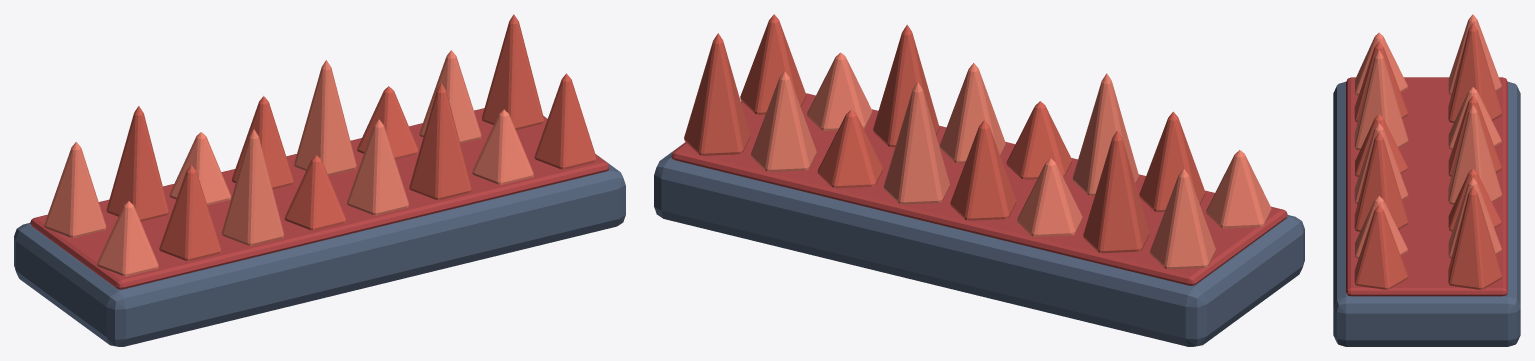
File: spikes.glb
3 renders of one model, left to right at view 1: azimuth 30°, elevation 25°; view 2: azimuth 150°, elevation 25°; view 3: azimuth 270°, elevation 25°, orthographic. The views are drawn at different scales.
Parts seen in each view (by area): view 1: HazardStoneBase, HazardCoralInset, CoralSpike_0_2, CoralSpike_0_5, CoralSpike_1_7, CoralSpike_1_1, CoralSpike_1_4, CoralSpike_0_7, CoralSpike_0_1, CoralSpike_1_0, CoralSpike_0_4, CoralSpike_0_3 (+6 smaller); view 2: HazardStoneBase, HazardCoralInset, CoralSpike_1_4, CoralSpike_1_7, CoralSpike_1_1, CoralSpike_1_0, CoralSpike_1_3, CoralSpike_1_6, CoralSpike_0_5, CoralSpike_0_2, CoralSpike_1_2, CoralSpike_0_0 (+6 smaller); view 3: HazardCoralInset, HazardStoneBase, CoralSpike_1_7, CoralSpike_0_7, CoralSpike_0_2, CoralSpike_1_4, CoralSpike_0_5, CoralSpike_1_1, CoralSpike_0_1, CoralSpike_0_4, CoralSpike_1_3, CoralSpike_1_0 (+6 smaller).
Boxes of the visible parts, x1,y1,x2,y2 form: HazardStoneBase: (14,116,625,346); HazardCoralInset: (30,108,609,289); CoralSpike_0_2: (222,129,284,245); CoralSpike_0_5: (409,83,471,199); CoralSpike_1_7: (482,14,544,129); CoralSpike_1_1: (106,106,168,221); CoralSpike_1_4: (294,60,356,175); CoralSpike_0_7: (534,73,596,169); CoralSpike_0_1: (159,165,221,260); CoralSpike_1_0: (44,142,106,237); CoralSpike_0_4: (347,119,408,215); CoralSpike_0_3: (284,155,346,230); HazardStoneBase: (654,101,1304,346); HazardCoralInset: (671,93,1287,285); CoralSpike_1_4: (883,82,949,204); CoralSpike_1_7: (684,33,750,155); CoralSpike_1_1: (1083,130,1149,253); CoralSpike_1_0: (1150,169,1215,269); CoralSpike_1_3: (950,120,1016,220); CoralSpike_1_6: (751,71,816,171); CoralSpike_0_5: (873,24,939,147); CoralSpike_0_2: (1072,73,1138,195); CoralSpike_1_2: (1017,158,1082,236); CoralSpike_0_0: (1206,150,1271,228); HazardCoralInset: (1346,77,1507,296); HazardStoneBase: (1333,81,1520,346); CoralSpike_1_7: (1448,186,1502,289); CoralSpike_0_7: (1354,204,1408,289); CoralSpike_0_2: (1354,50,1408,150); CoralSpike_1_4: (1448,105,1502,204); CoralSpike_0_5: (1354,132,1408,231); CoralSpike_1_1: (1448,23,1502,122); CoralSpike_0_1: (1354,41,1408,122); CoralSpike_0_4: (1354,123,1408,204); CoralSpike_1_3: (1448,96,1501,176); CoralSpike_1_0: (1448,14,1501,95).
Bounding box in the file's own units: 2.9 × 0.894 × 1.02.
